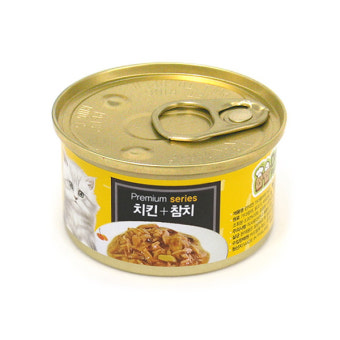paper: (47, 61, 289, 278)
